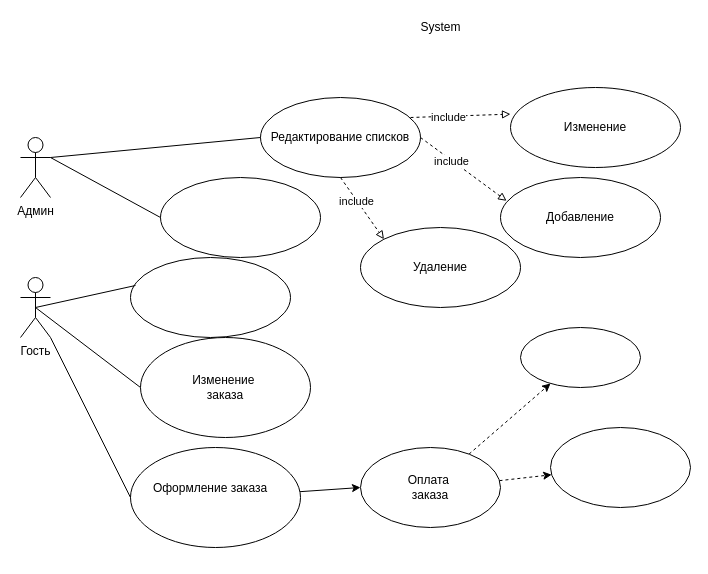
Some shapes in this 708 by 574 pixel diagram are drawn without their labels. Here are the shapes that lost their labels. From the top down, the centre of each, then its label:
At (x=240, y=217): "Авторизация".
At (x=210, y=297): "Просмотр страниц".
At (x=580, y=357): "Карта".
At (x=620, y=467): "Наличными".
